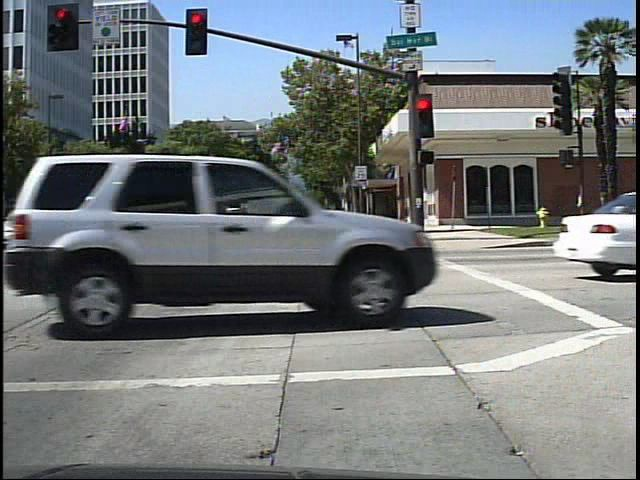person: (267, 205, 280, 224)
